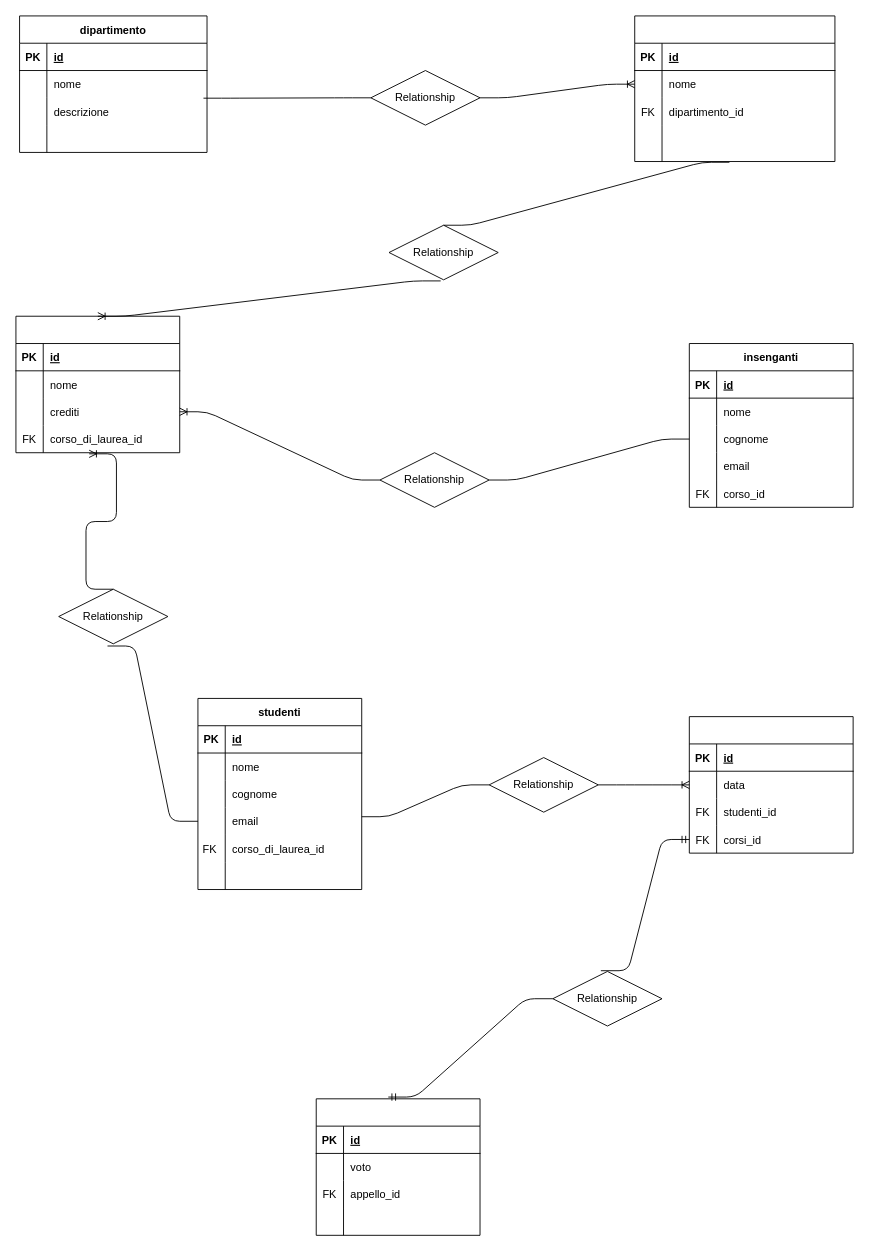
Image size: 869x1251. Some labels were removed from this diagram. Each missing label, with the box of its shape:
appelli_esame: (688, 716, 853, 853)
corsi: (15, 315, 180, 453)
corsi di laurea: (634, 15, 835, 162)
voti: (315, 1098, 480, 1235)
